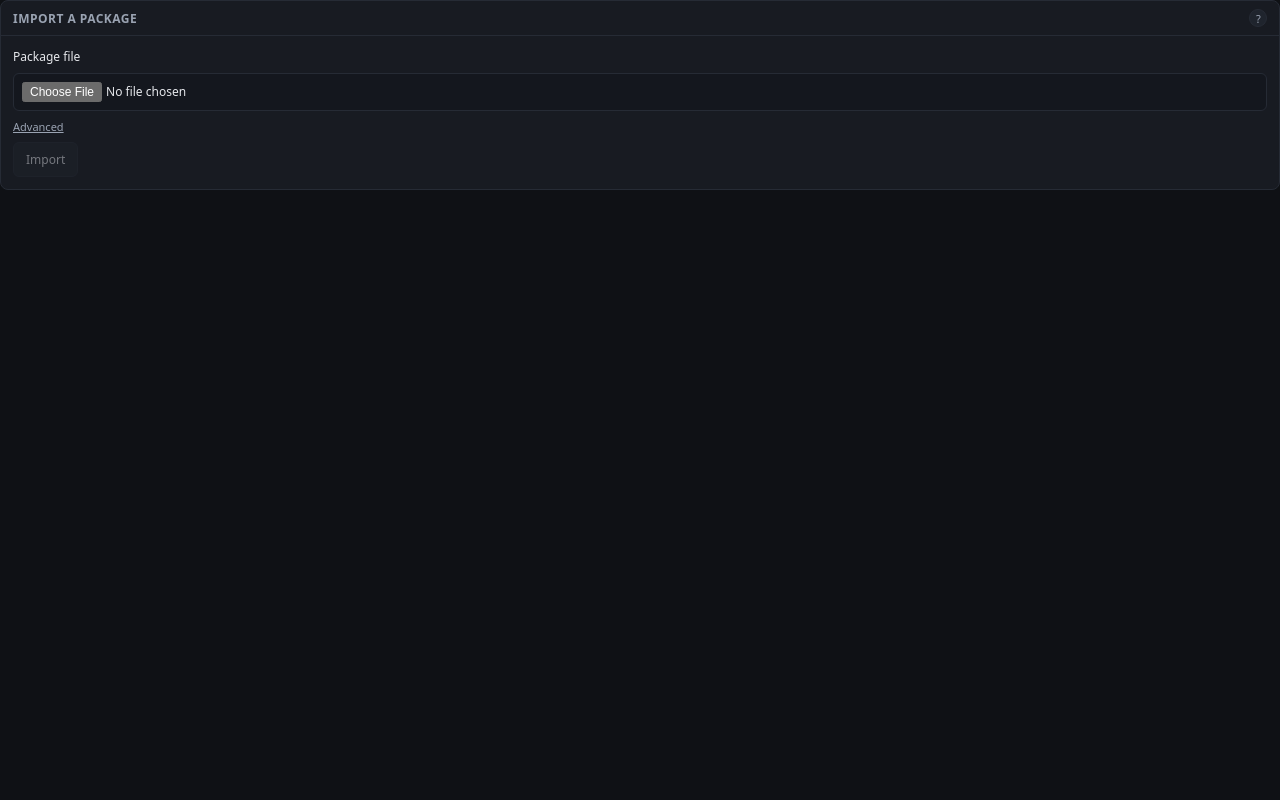
Test case: ImportPanel layout › explains itself when the question mark is used
Click the button named "About importing a package" at (1258, 18), box [1249,9,1267,27]
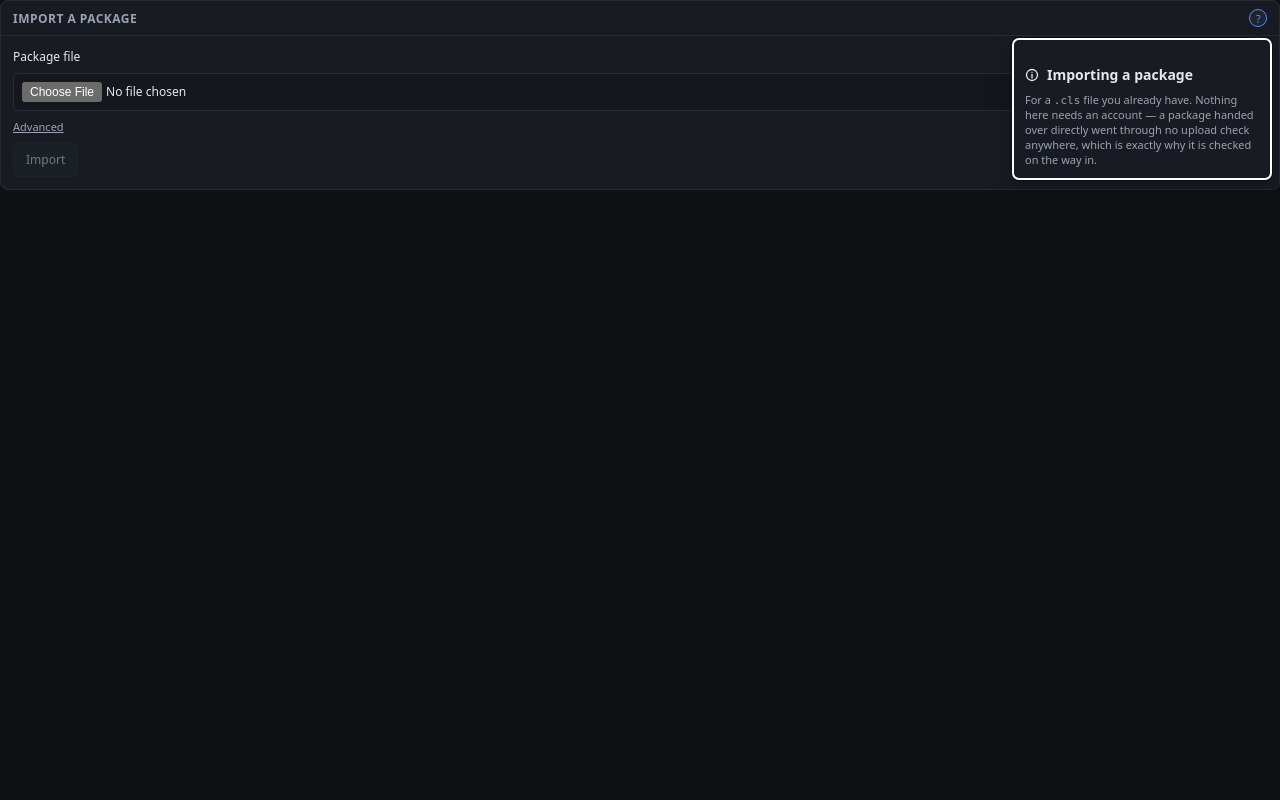
Result: the text "went through no upload check" is shown at [1025,92,1254,167]
